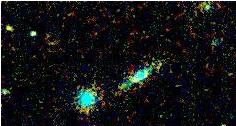star: (0, 11, 21, 41)
